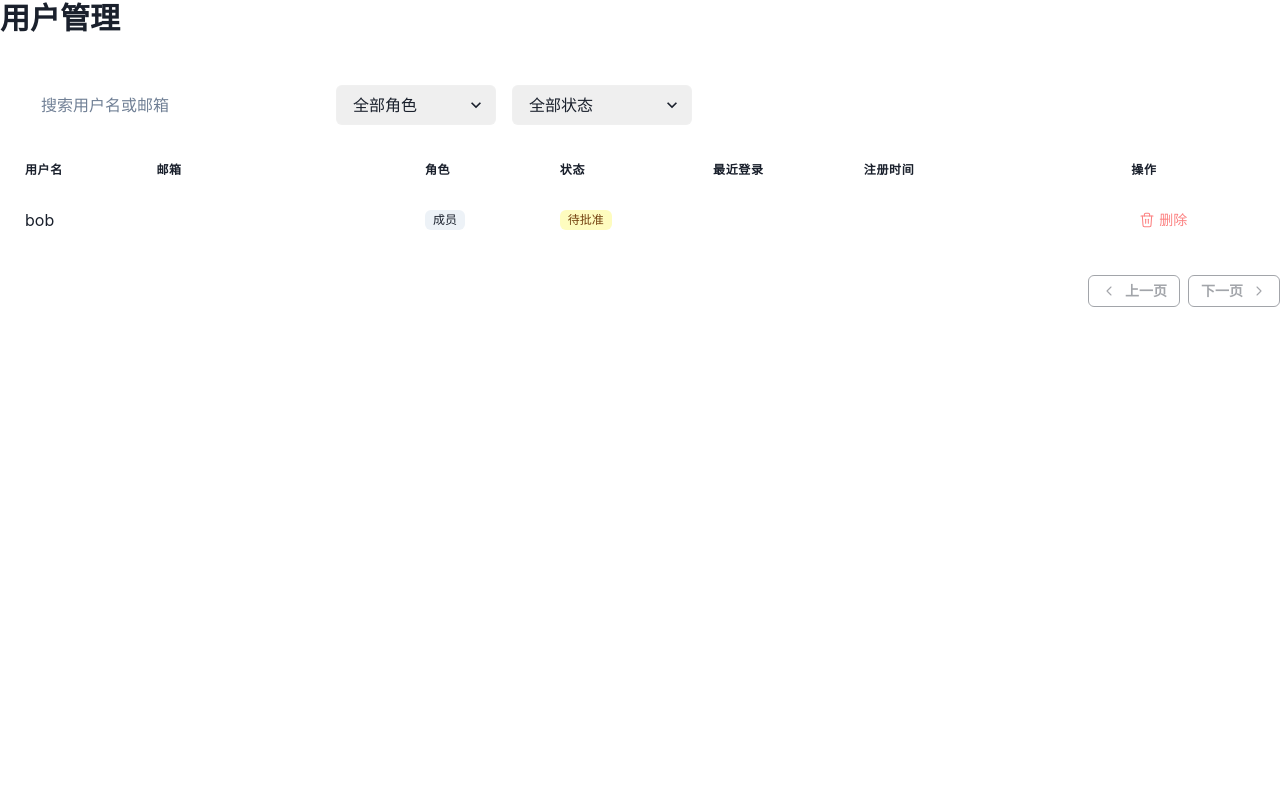
Test: UsersPage › shows the confirm dialog before deletion
The width and height of the screenshot is (1280, 800).
expect the text "bob" is shown: met, box [25,210,54,230]
Click the button with aria-label "删除用户 bob": [1163, 220] box [1131,206,1195,234]
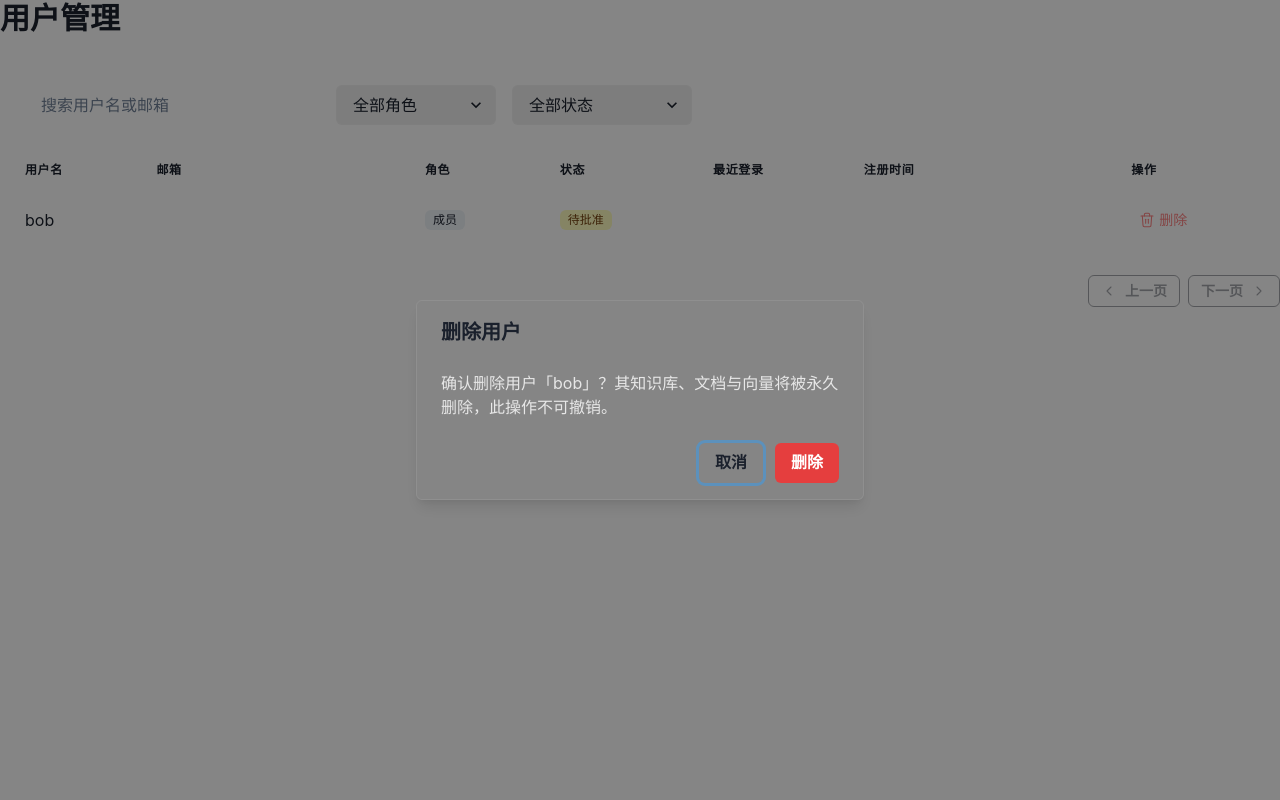
expect the text "确认删除用户「bob」？其知识库、文档与向量将被永久删除，此操作不可撤销。" is shown: met, box [417,363,863,427]
expect the button "取消" is shown: met, box [699,443,763,483]
expect the button "删除" is shown: met, box [775,443,839,483]
